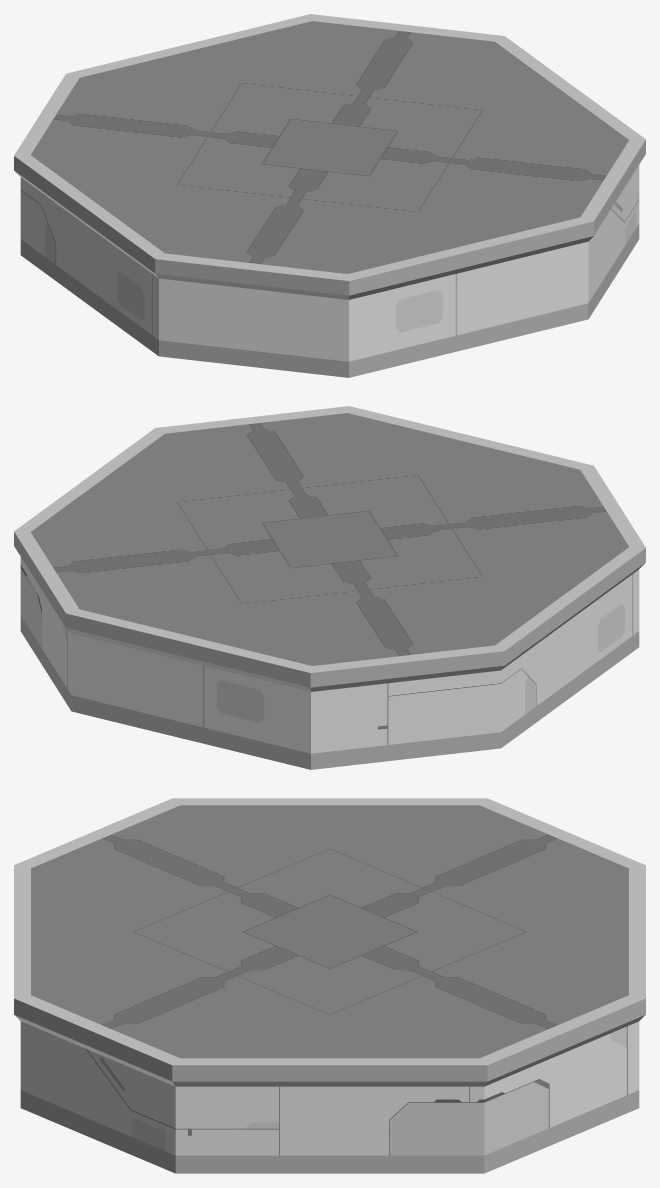
The model's file is SM_Platform_4x4_1.fbx.
The picture shows the model from 3 angles, top to bottom: view 1: azimuth 30°, elevation 25°; view 2: azimuth 150°, elevation 25°; view 3: azimuth 270°, elevation 25°; orthographic projection. The views are drawn at different scales.
Visible parts, largest first — view 1: SM_Platform_4x4_1; view 2: SM_Platform_4x4_1; view 3: SM_Platform_4x4_1.
Boxes of the visible parts, x1,y1,x2,y2 form: SM_Platform_4x4_1: [14, 14, 645, 377]; SM_Platform_4x4_1: [14, 406, 645, 769]; SM_Platform_4x4_1: [14, 798, 645, 1173].
Bounding box in the file's own units: 412 × 80 × 412.
